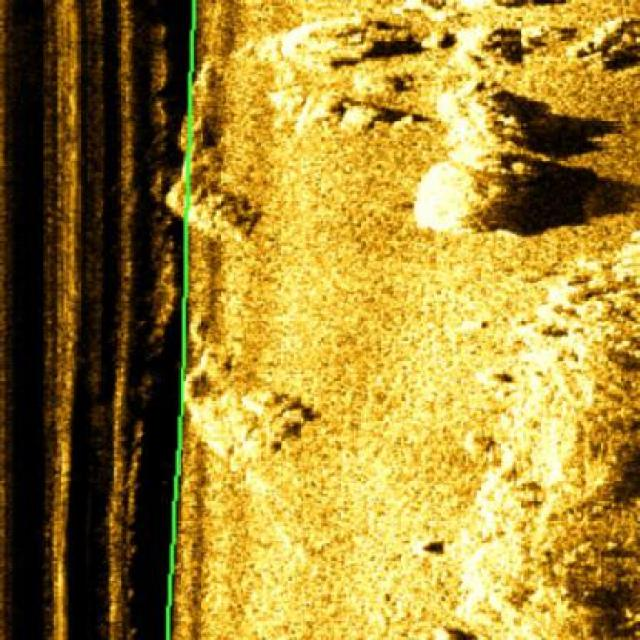bedrock group: (302, 0, 638, 234), (455, 256, 639, 639)
